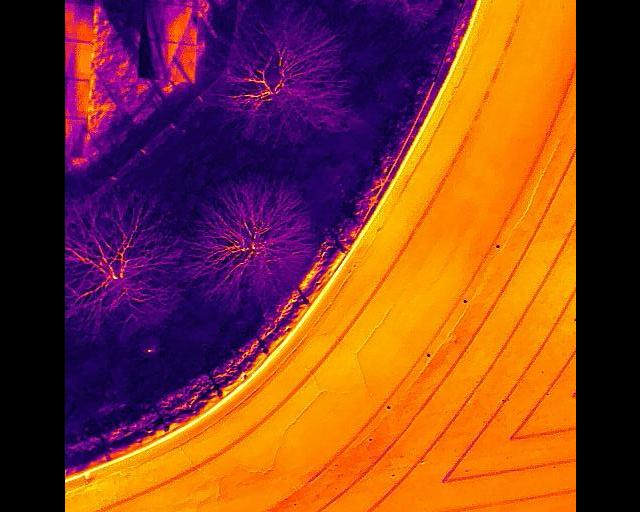Shadowing: (140, 2, 162, 42), (156, 44, 178, 81), (160, 3, 178, 44), (70, 80, 88, 120), (177, 44, 195, 83), (74, 4, 92, 43), (73, 42, 91, 79), (138, 41, 156, 78), (179, 4, 196, 43)
